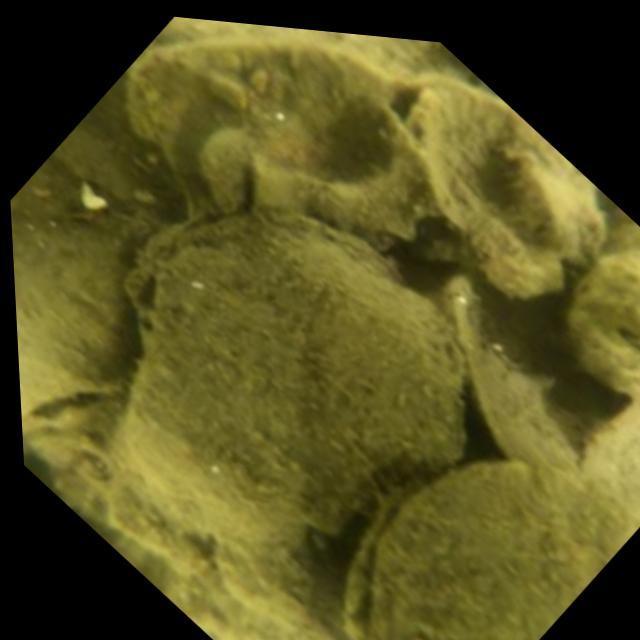Oyster-Closed: (111, 204, 478, 561), (339, 460, 630, 640)
Oyster-Indeterminate: (11, 211, 156, 420), (192, 127, 256, 214)
